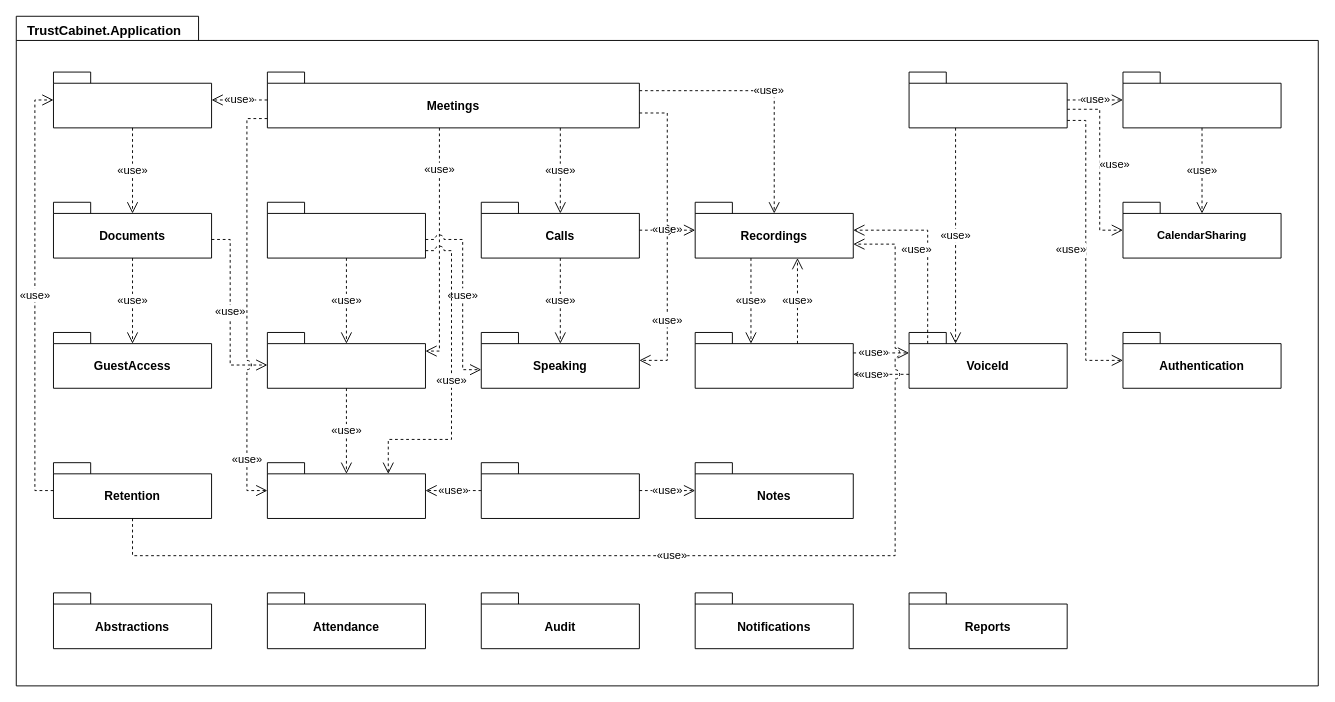
Image size: 1335x702. Some labels were removed from this diagram. The shapes that lost their labels are listed below. From the top down, each one's box as (x1, y1, x2, y2) in pixels, then its label:
(53, 71, 212, 128): Votes
(908, 71, 1067, 128): Users
(1122, 71, 1281, 128): Access
(266, 201, 425, 258): Participants
(266, 332, 425, 388): Agenda
(694, 332, 853, 388): Transcription
(266, 462, 425, 518): Email
(480, 462, 639, 518): Summaries
